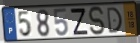5: (52, 7, 70, 37), (18, 10, 33, 38)
8: (35, 9, 51, 38)
D: (106, 6, 124, 35)
S: (87, 6, 107, 37)
Z: (69, 8, 89, 37)
